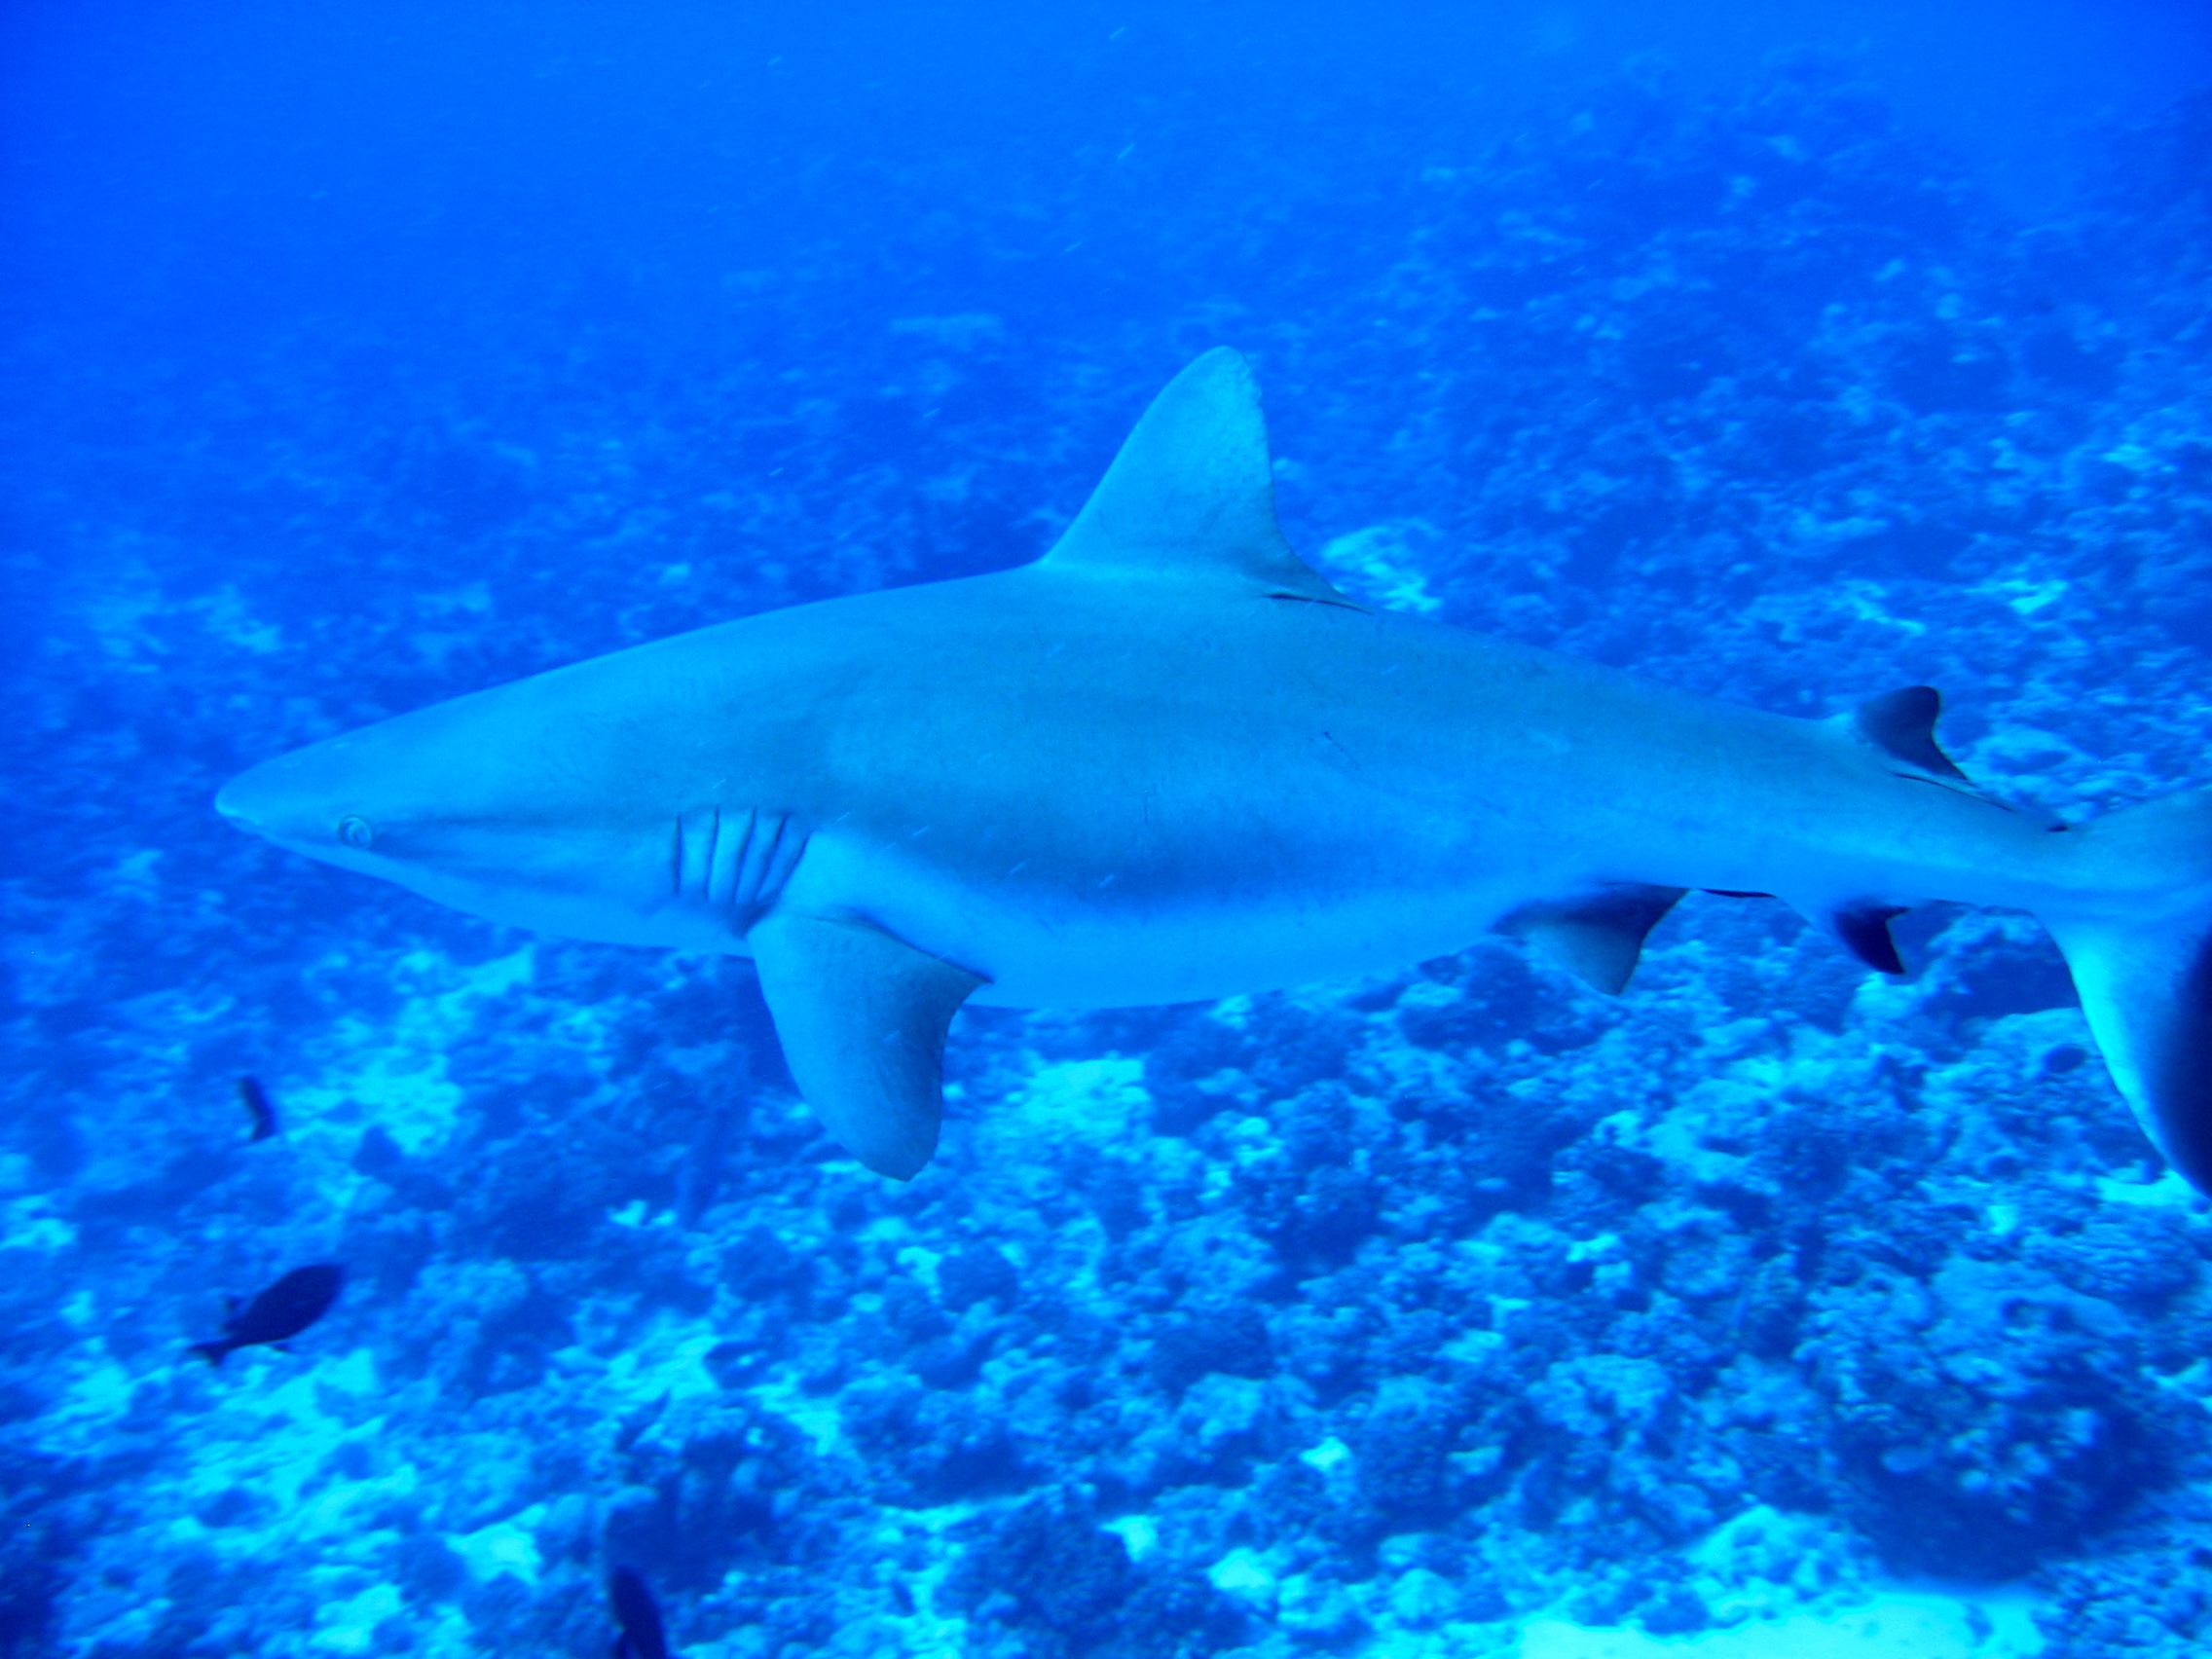Carcharhinus_amblyrhynchos: (152, 322, 2212, 1251)
